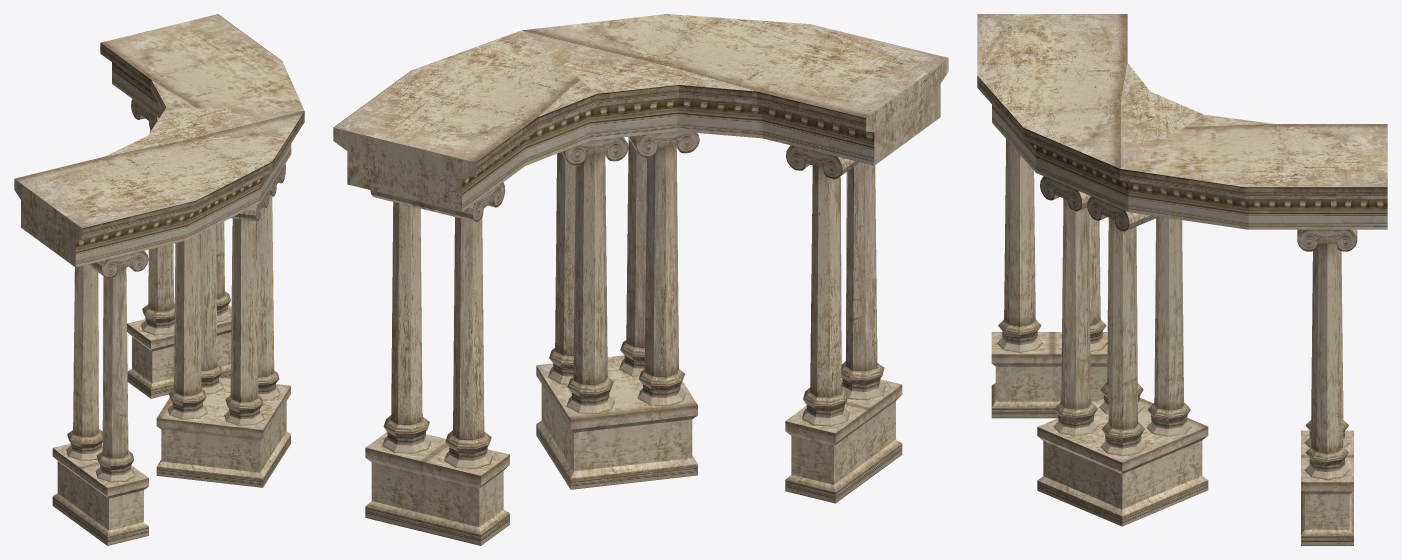
Rendered from svpergola6.dae.
3 views of the same model, side by side, from view 1: azimuth 30°, elevation 25°; view 2: azimuth 150°, elevation 25°; view 3: azimuth 270°, elevation 25° (orthographic). The views are drawn at different scales.
Parts seen in each view (by area): view 1: cylinder19_cut20-0; view 2: cylinder19_cut20-0; view 3: cylinder19_cut20-0.
Part boxes in pixels (box(x1,y1,x2,y2)): cylinder19_cut20-0: box(14, 14, 304, 545); cylinder19_cut20-0: box(333, 14, 948, 545); cylinder19_cut20-0: box(977, 14, 1387, 545).
Bounding box in the file's own units: 612 × 600 × 612.
